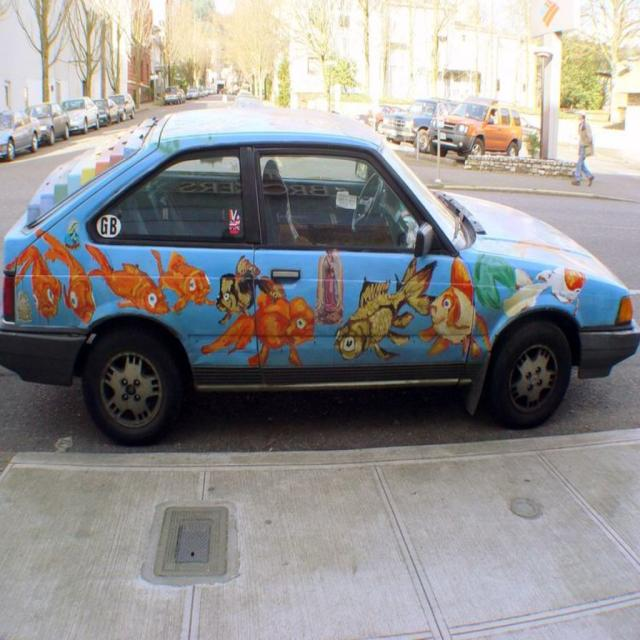car: (9, 118, 612, 447), (161, 83, 180, 100)
